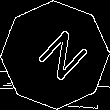N_SW: (23, 23, 87, 87)
